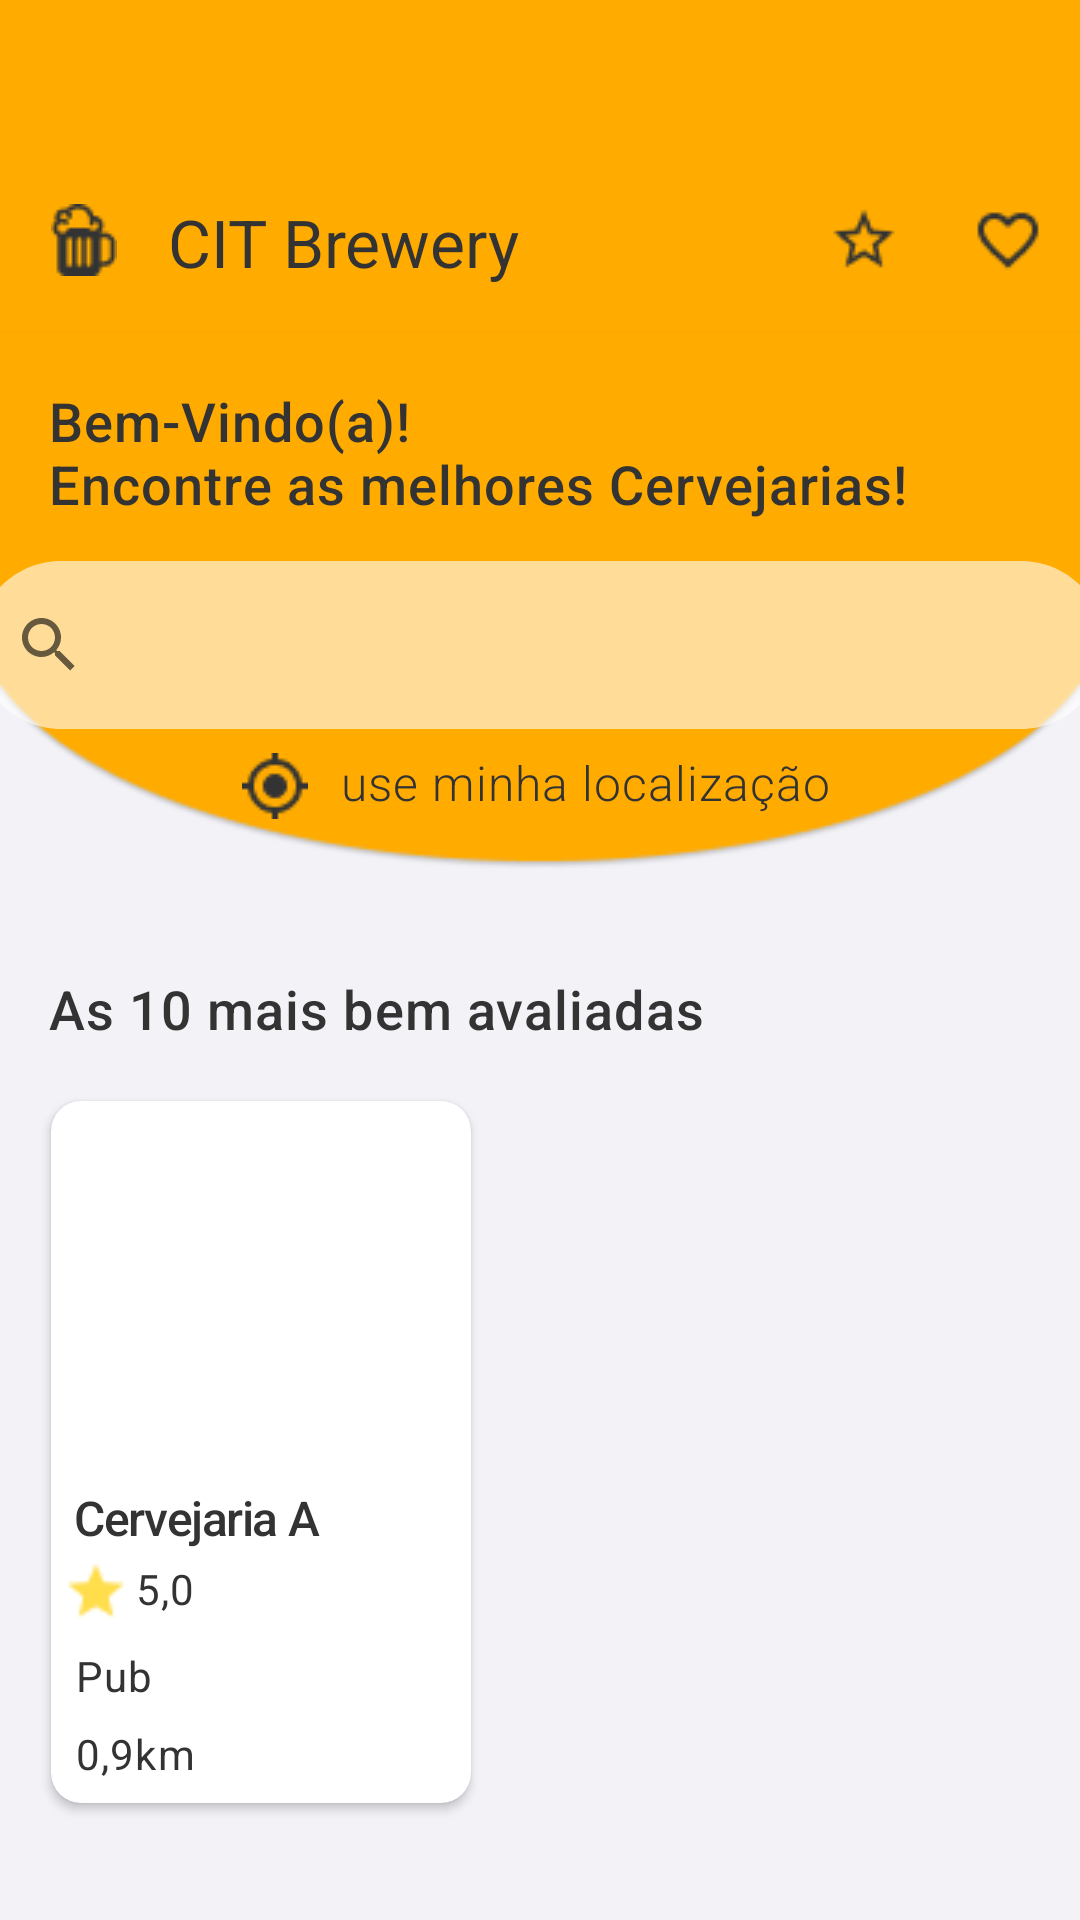

Icons on this 1080w x 1920h Android screen, each with its box as box=[x1, y1, x2, y2]:
heart: box=[977, 212, 1039, 269]
location: box=[242, 753, 308, 819]
star: box=[833, 210, 895, 268], box=[68, 1565, 124, 1617]
